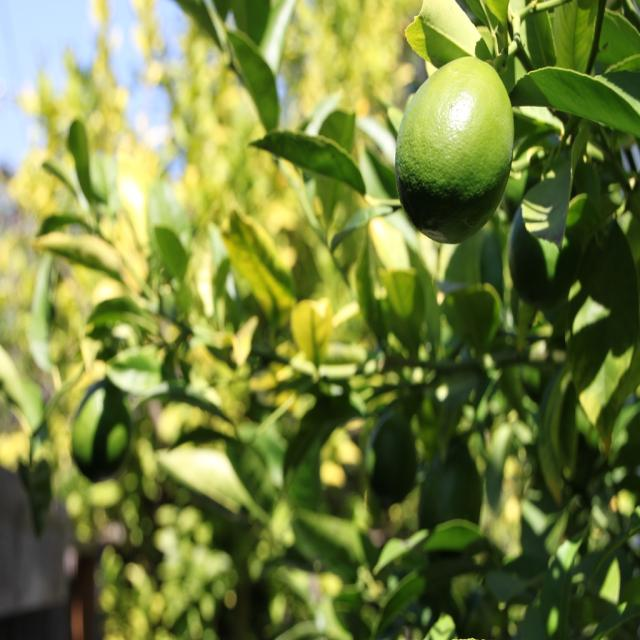Lemon: (404, 49, 525, 237)
